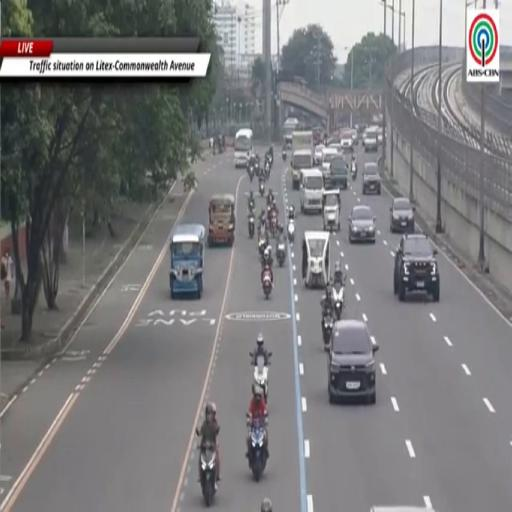bus: (234, 128, 253, 167)
car: (328, 319, 378, 404), (394, 234, 440, 301), (349, 205, 375, 244), (390, 198, 415, 232), (362, 163, 381, 195), (363, 128, 378, 152), (370, 506, 435, 511), (340, 130, 354, 152), (314, 144, 325, 165), (328, 142, 342, 153), (377, 127, 383, 145), (352, 130, 359, 145)
jeepney: (170, 223, 205, 298), (208, 195, 235, 246)
motorcycle: (249, 420, 267, 482), (200, 443, 216, 506), (254, 356, 268, 403), (333, 278, 345, 319), (322, 314, 333, 349), (262, 266, 272, 299), (270, 209, 278, 238), (287, 219, 296, 243), (276, 242, 285, 266), (258, 235, 266, 258), (248, 213, 254, 238), (248, 196, 256, 214), (351, 162, 357, 180), (265, 160, 270, 180), (248, 166, 254, 182), (255, 162, 260, 178), (259, 182, 264, 197), (283, 151, 287, 161)
truck: (291, 131, 314, 189)
